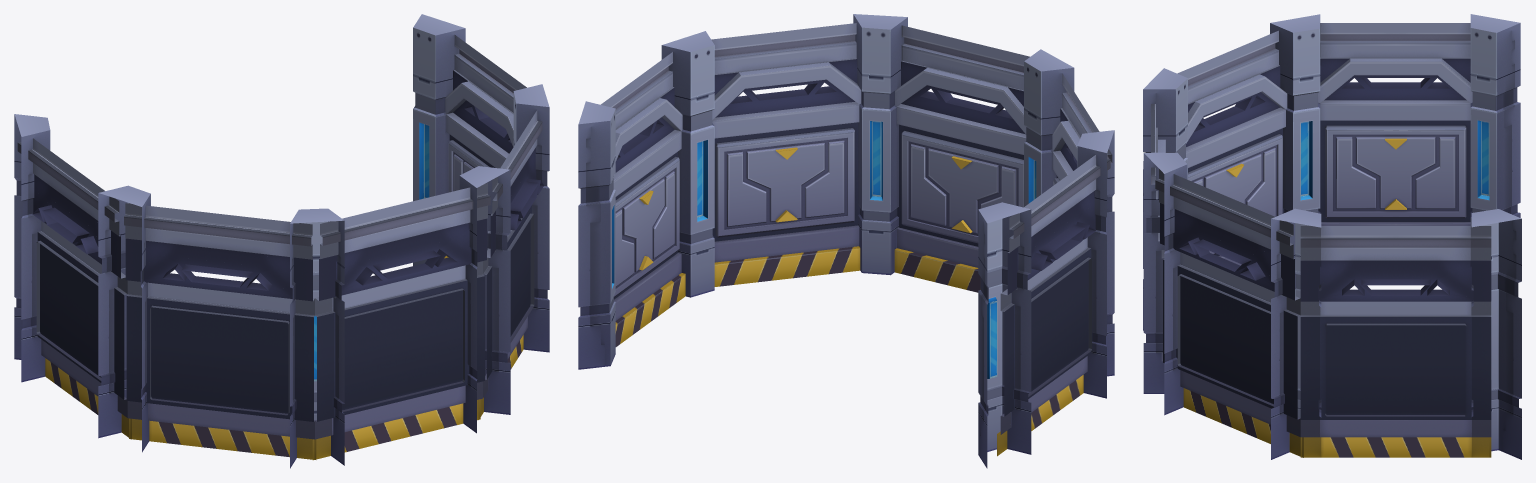
Rendered from shiguangzhaohuanji_qiangbi.FBX.
3 views of the same model, side by side, from view 1: azimuth 30°, elevation 25°; view 2: azimuth 150°, elevation 25°; view 3: azimuth 270°, elevation 25° (orthographic).
Visible parts, largest first — view 1: shiguangzhaohuanji_qiangbi; view 2: shiguangzhaohuanji_qiangbi, shiguangzhaohuanji_boli; view 3: shiguangzhaohuanji_qiangbi, shiguangzhaohuanji_boli.
Part boxes in pixels (x1=…): shiguangzhaohuanji_qiangbi: x1=14, y1=14, x2=549, y2=468; shiguangzhaohuanji_qiangbi: x1=578, y1=14, x2=1114, y2=468; shiguangzhaohuanji_boli: x1=697, y1=121, x2=1036, y2=217; shiguangzhaohuanji_qiangbi: x1=1143, y1=14, x2=1521, y2=459; shiguangzhaohuanji_boli: x1=1300, y1=121, x2=1309, y2=196.
Bounding box in the file's own units: 1399 × 737 × 1048.
